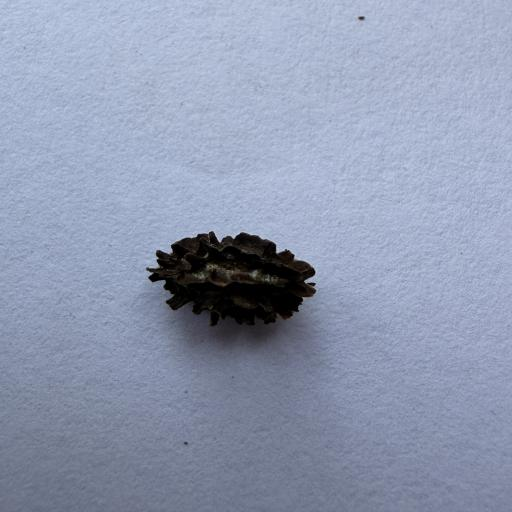papaya_seed: (127, 203, 353, 351)
